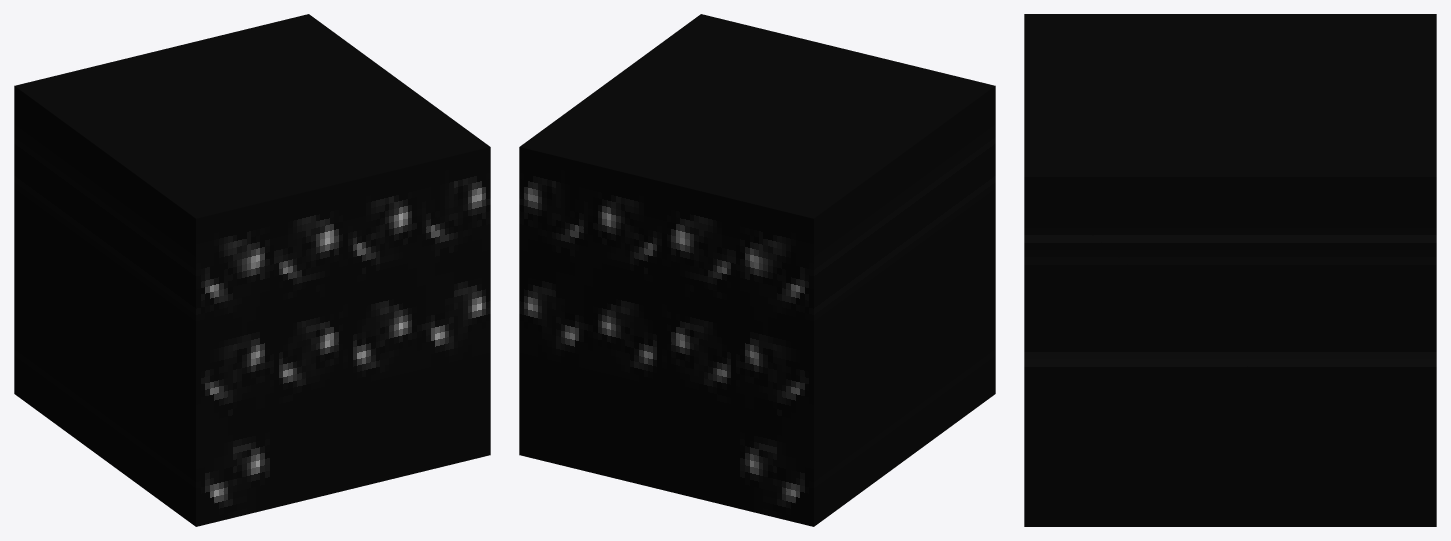
3 renders of one model, left to right at view 1: azimuth 30°, elevation 25°; view 2: azimuth 150°, elevation 25°; view 3: azimuth 270°, elevation 25°, orthographic. The views are drawn at different scales.
Parts seen in each view (by area): view 1: model_Object23; view 2: model_Object23; view 3: model_Object23.
Part boxes in pixels (x1,y1,x2,y2): model_Object23: (14,14,490,526); model_Object23: (519,14,995,526); model_Object23: (1024,14,1436,526).
Size of the model in its own units: 0.4933 by 0.4933 by 0.5272.
Materials: 1 (1 with a texture image).
